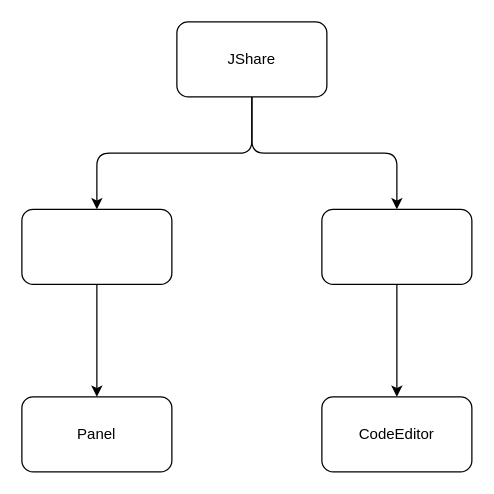
Image size: 494x494. Some labels were removed from this diagram. Here are the shapes that lost their labels. From the top down, the box of each, then its label:
(21, 208, 172, 284): Layout
(321, 208, 472, 284): Editor
